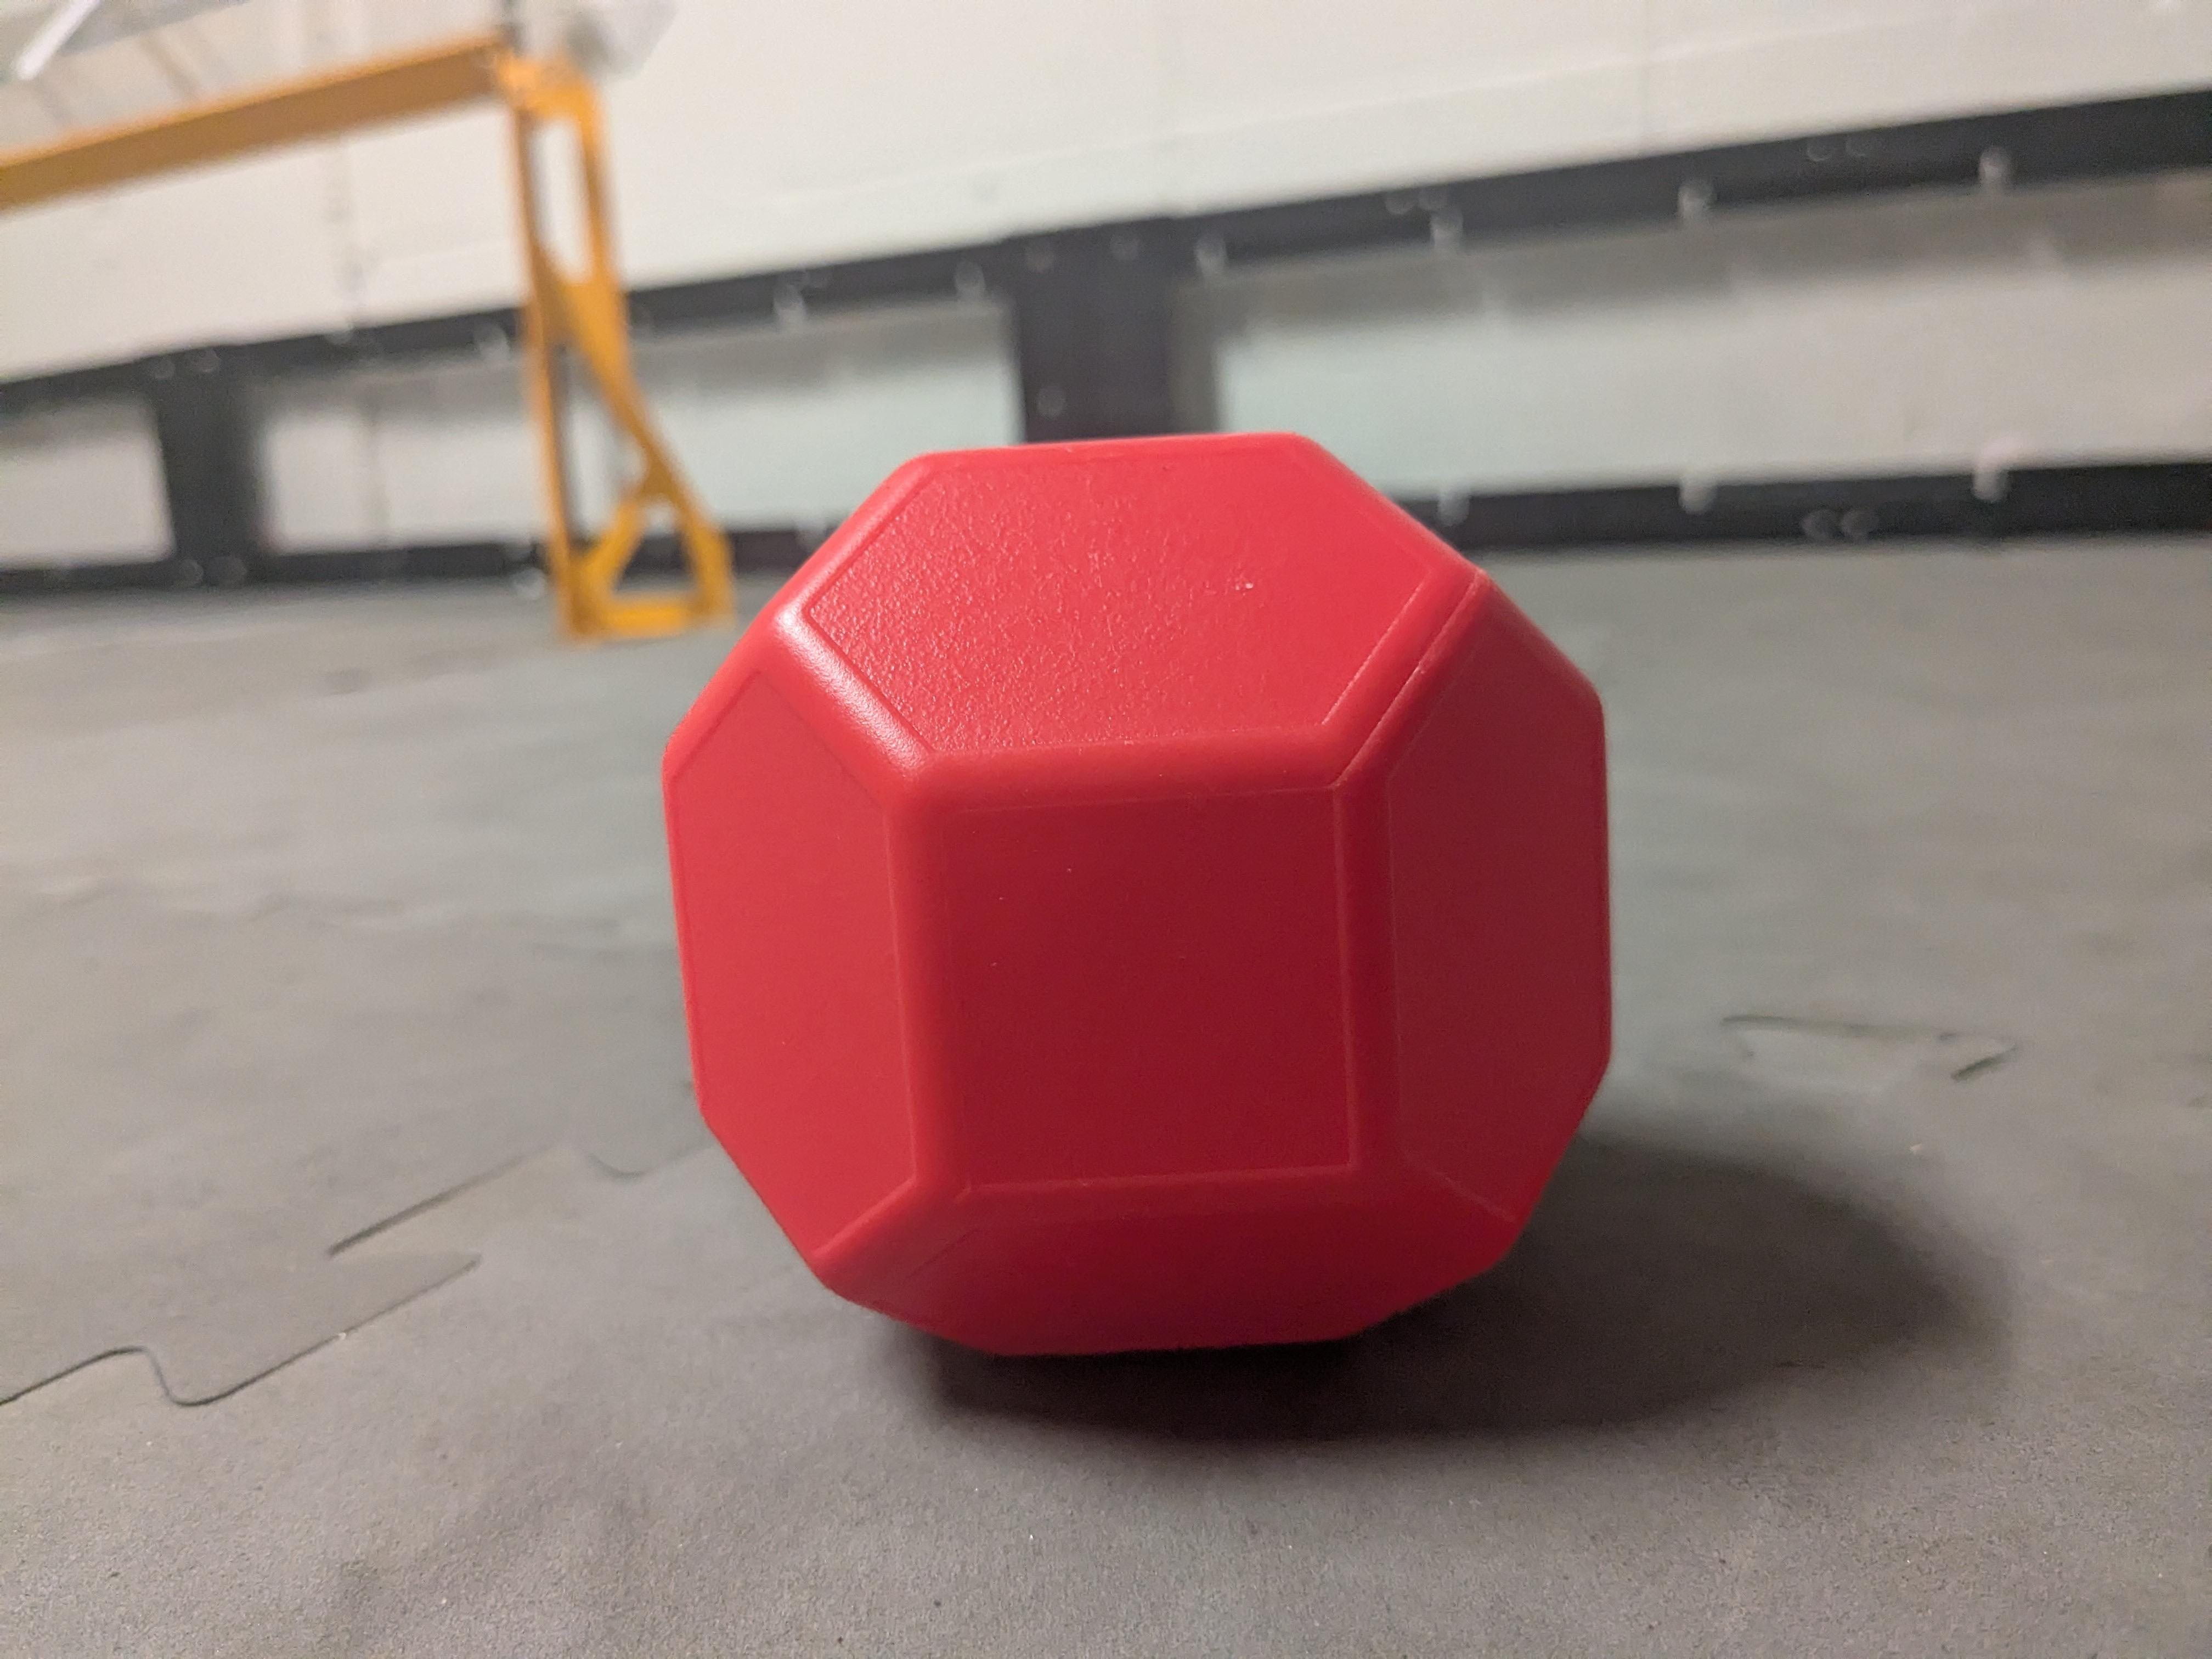Vex-Pieces-RED: (662, 448, 1608, 1371)
